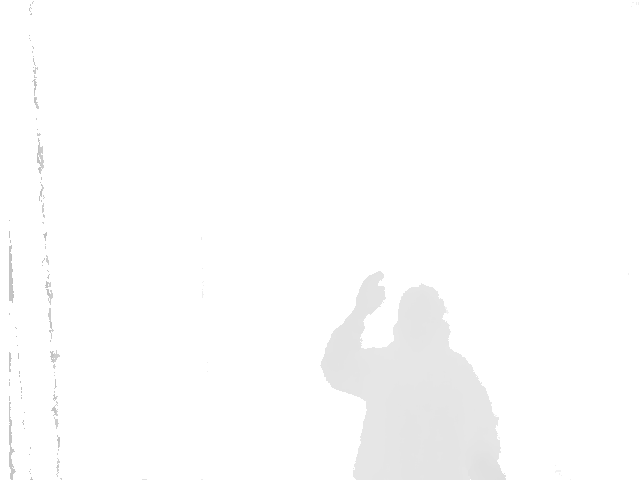hand: (352, 266, 388, 318)
head: (390, 283, 452, 349)
person: (320, 262, 505, 480)
